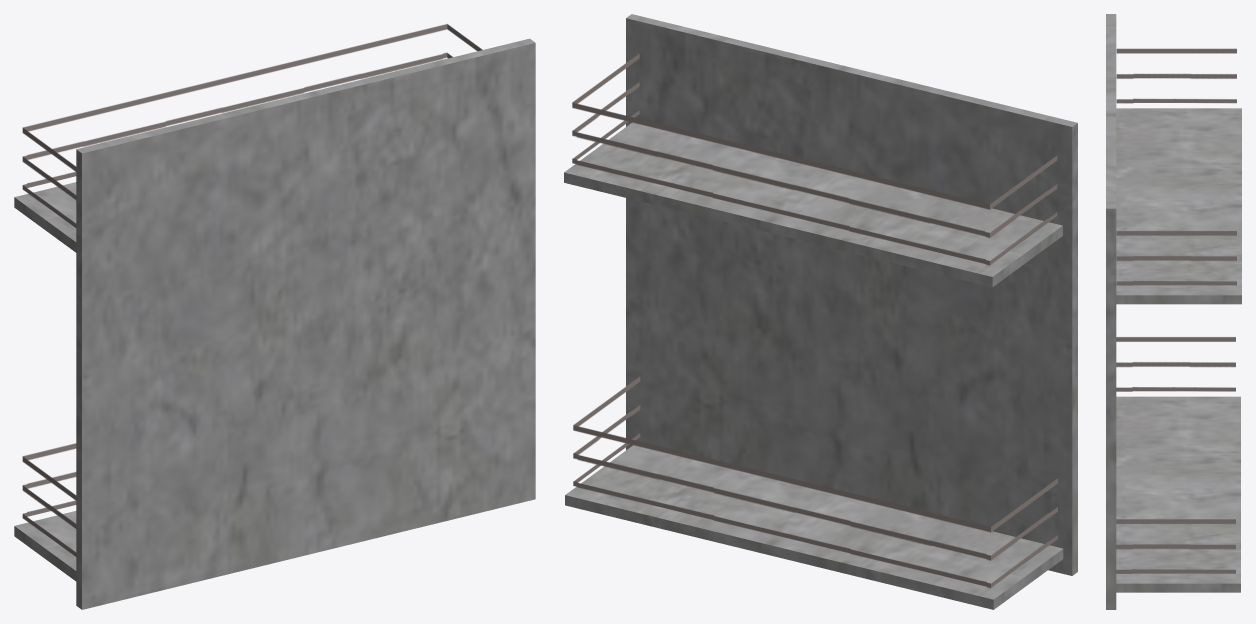
Rendered from Shelf_04.glb.
3 views of the same model, side by side, from view 1: azimuth 30°, elevation 25°; view 2: azimuth 150°, elevation 25°; view 3: azimuth 270°, elevation 25° (orthographic). The views are drawn at different scales.
Visible parts, largest first — view 1: Shelf_04; view 2: Shelf_04; view 3: Shelf_04.
Part boxes in pixels (left/top/right/bottom): Shelf_04: left=14, top=24, right=535, bottom=609; Shelf_04: left=564, top=14, right=1077, bottom=609; Shelf_04: left=1106, top=14, right=1241, bottom=609.
Size of the model in its own units: 0.2925 by 0.2813 by 0.0863.
2 materials, 2 textured.
